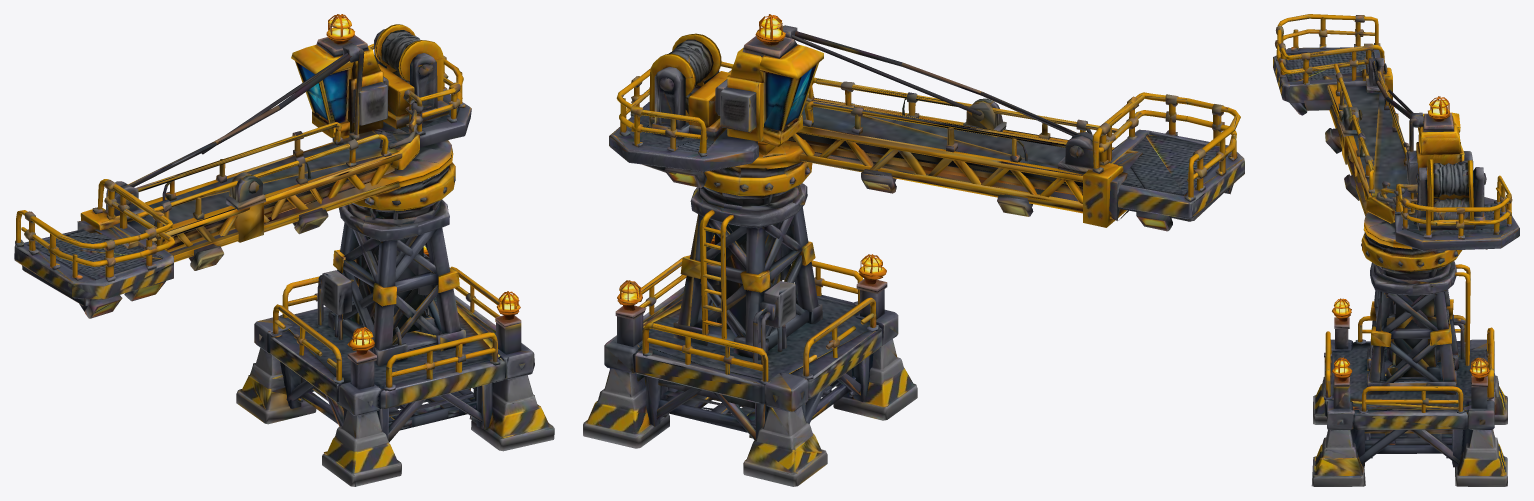
The model's file is slewing_crane.glb.
The picture shows the model from 3 angles, left to right: view 1: azimuth 30°, elevation 25°; view 2: azimuth 150°, elevation 25°; view 3: azimuth 270°, elevation 25°; orthographic projection. The views are drawn at different scales.
Size of what is drawn, in the model's own units: 1.31 by 1 by 0.6716.
Materials: 1 (1 with a texture image).
